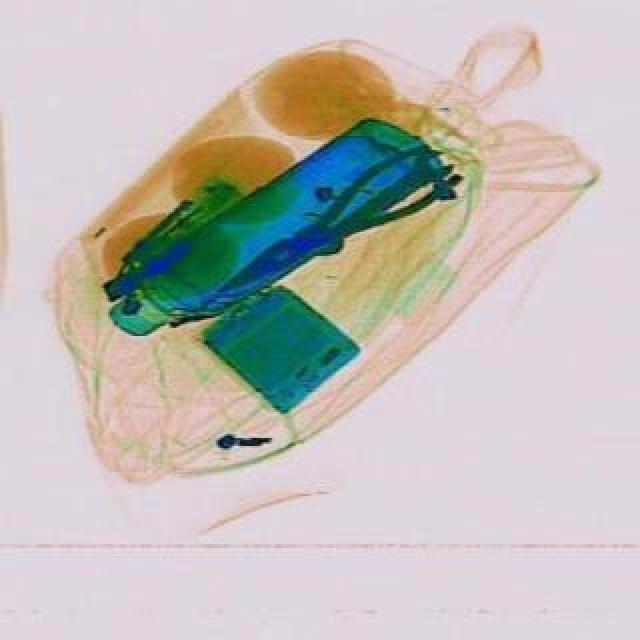scissors: (306, 146, 462, 262)
wrench: (204, 138, 468, 324)
